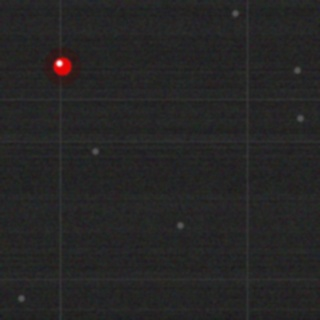red_fault: (51, 55, 73, 77)
